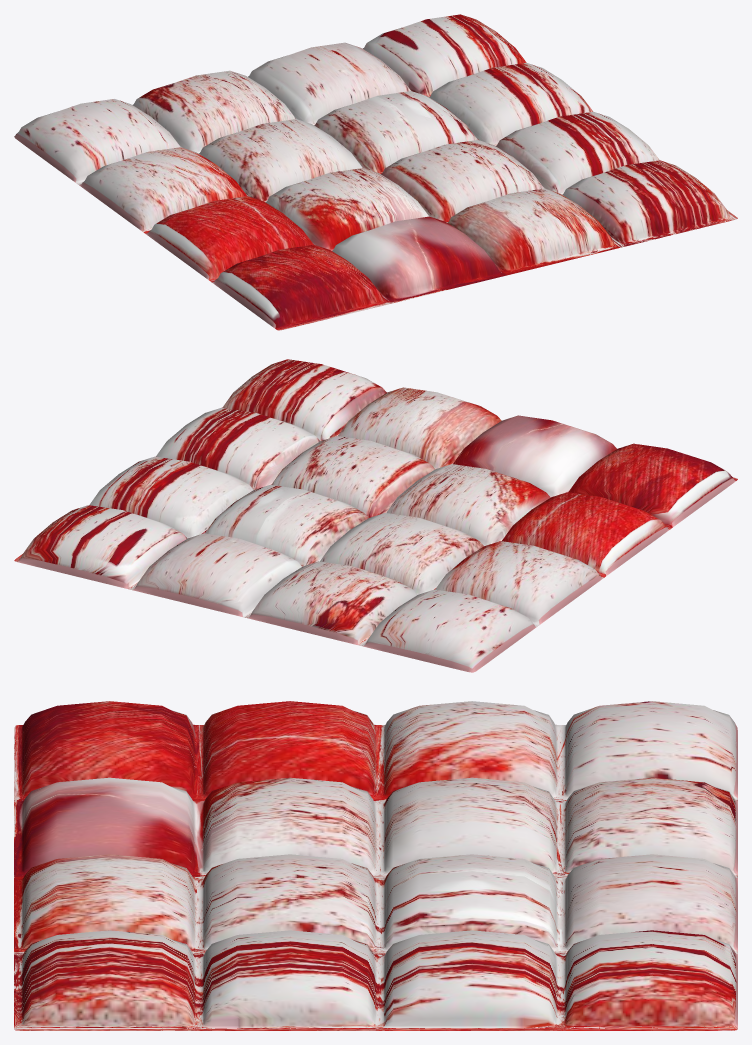
File: Piso_007.fbx
3 renders of one model, top to bottom at view 1: azimuth 30°, elevation 25°; view 2: azimuth 150°, elevation 25°; view 3: azimuth 270°, elevation 25°, orthographic. The views are drawn at different scales.
Parts seen in each view (by area): view 1: Plane; view 2: Plane; view 3: Plane.
Part boxes in pixels (x1=…): Plane: x1=14, y1=14, x2=737, y2=330; Plane: x1=14, y1=359, x2=737, y2=672; Plane: x1=14, y1=701, x2=737, y2=1030.
Size of the model in its own units: 600 by 39.87 by 600.
